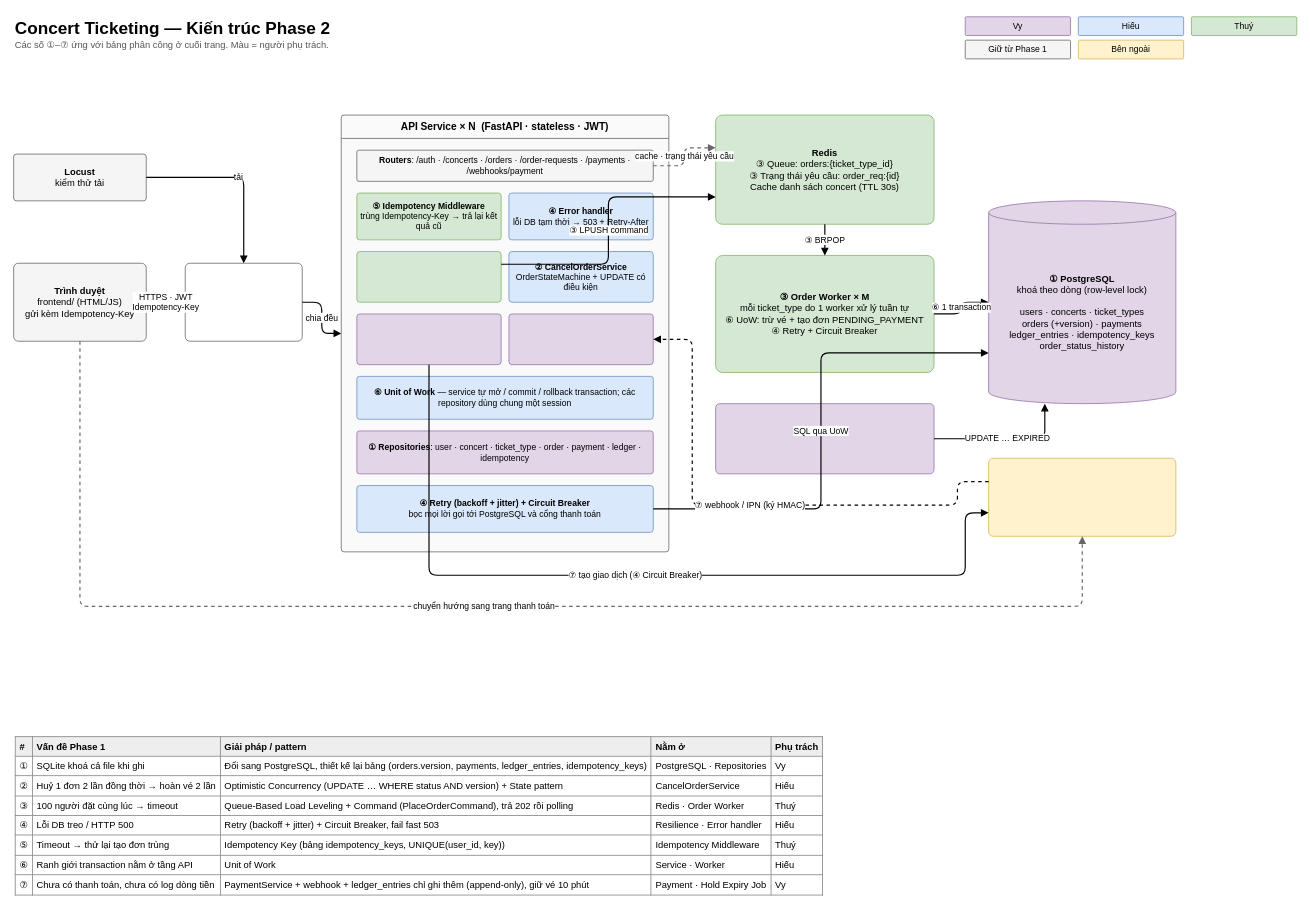
This 1310x909 diagram has some shape labels left out. Here are the shapes that lost their labels. From the top down, the centre of each, then its label:
At pixel 428 276: "③ OrderService.place() kiểm tra → đẩy PlaceOrderCommand → 202".
At pixel 243 301: "Nginx Load balancer TLS · rate limit".
At pixel 428 339: "⑦ PaymentService tạo giao dịch · hoàn tiền".
At pixel 580 339: "⑦ PaymentWebhookHandler xác minh chữ ký · ghi ledger".
At pixel 824 438: "⑦ Hold Expiry Job (mỗi 30s) PENDING_PAYMENT quá 10 phút → EXPIRED, nhả vé".
At pixel 1082 496: "Cổng thanh toán VNPay / MoMo (sandbox) hệ thống bên ngoài".
